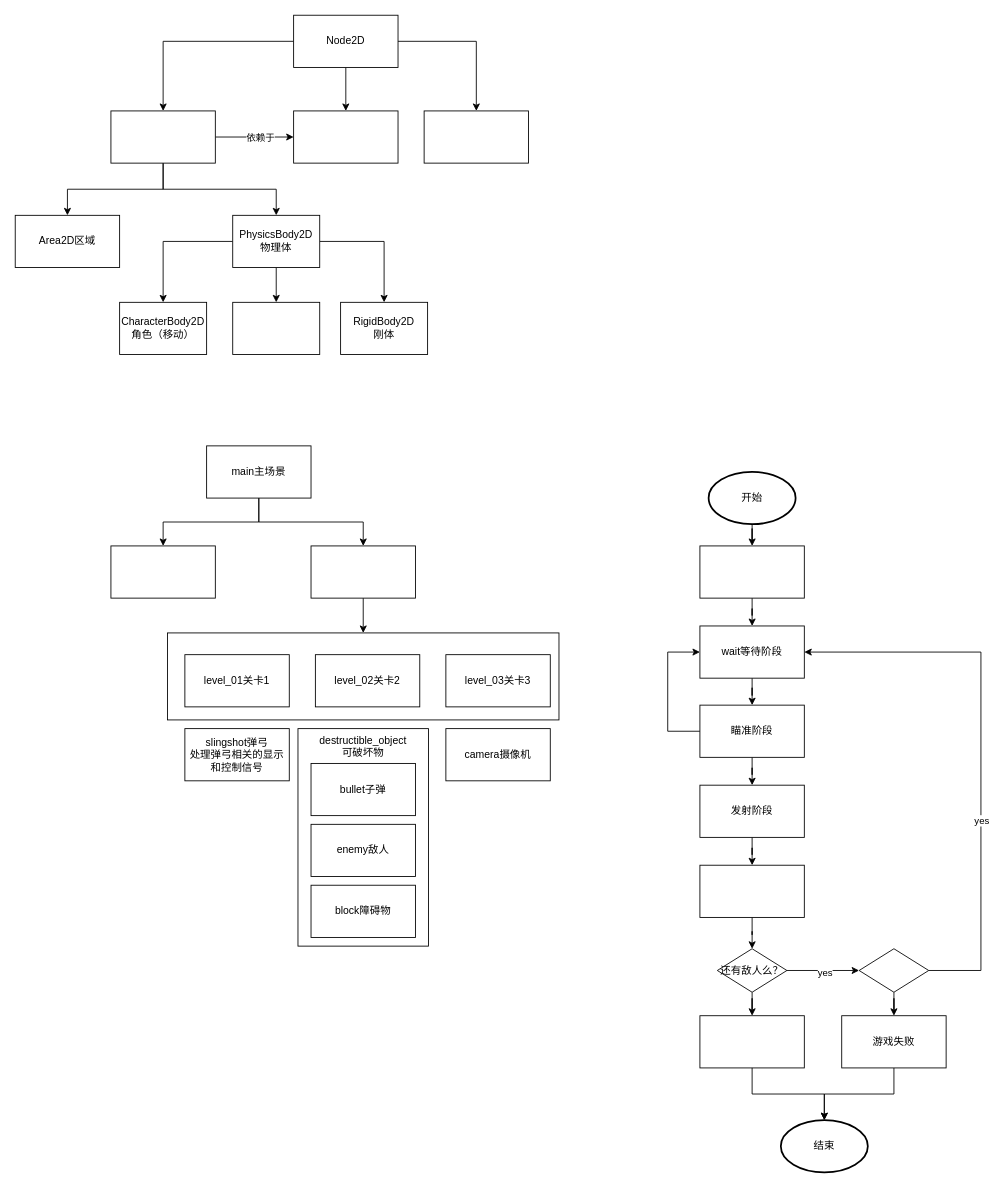
Some shapes in this 1004 by 1188 pixel diagram are drawn without their labels. Here are the shapes that lost their labels. From the top down, the box of each, then its label:
(110, 110, 215, 163): CollisionObject2D 碰撞对象
(293, 110, 398, 163): CollisionShape2D 形状
(423, 110, 529, 163): CollisionPolygon2D 多边形
(232, 301, 320, 355): StaticBody2D 静物
(110, 545, 215, 598): menu主菜单场景
(310, 545, 415, 598): game游戏主体场景
(699, 545, 804, 598): ready准备阶段
(167, 632, 559, 720): level关卡
(699, 864, 804, 917): 回合结束阶段
(858, 948, 929, 992): 还有子弹吗？
(699, 1015, 804, 1068): 游戏胜利
